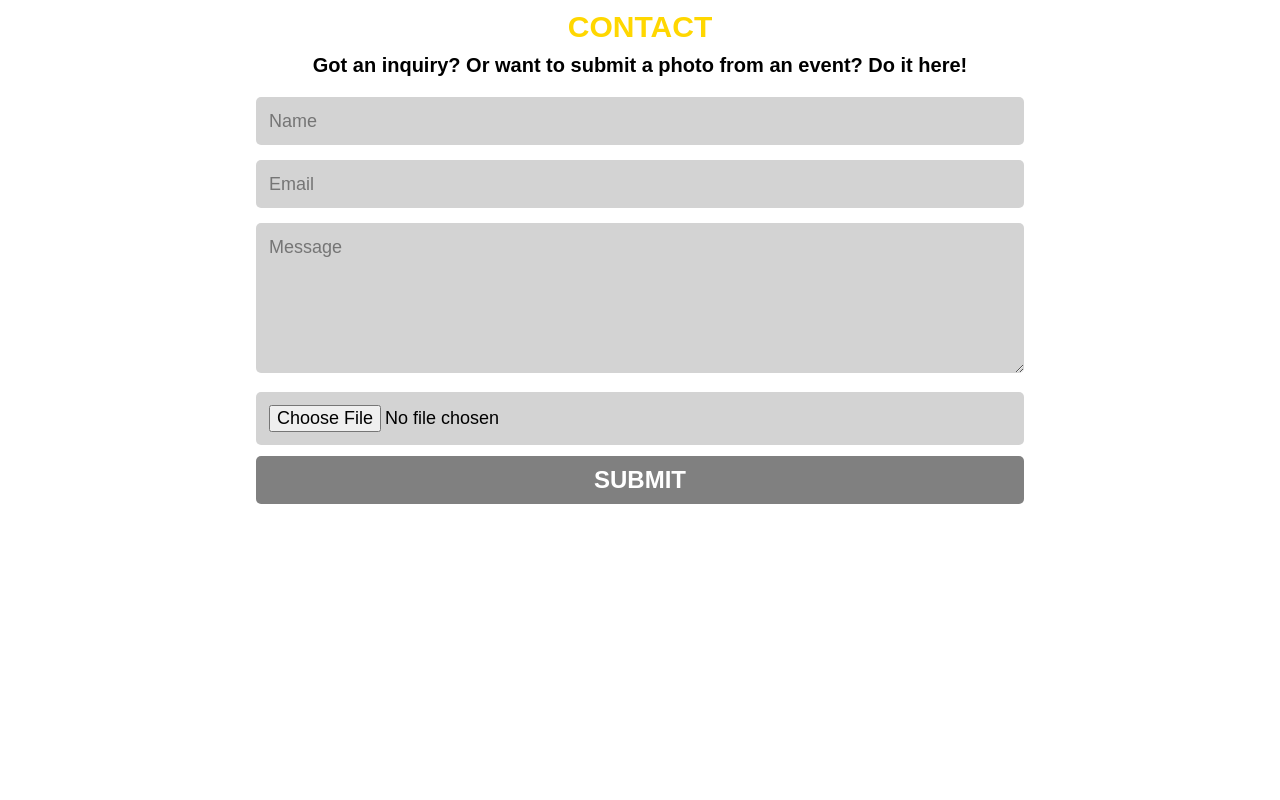
Scenario: ContactForm › displays success message when submitting form with all fields filled
This screenshot has width=1280, height=800.
Note: Fill in all form fields and click the submit button
In the field with placeholder "Name": (640, 121) [256,97,1024,145], type "Greg James"
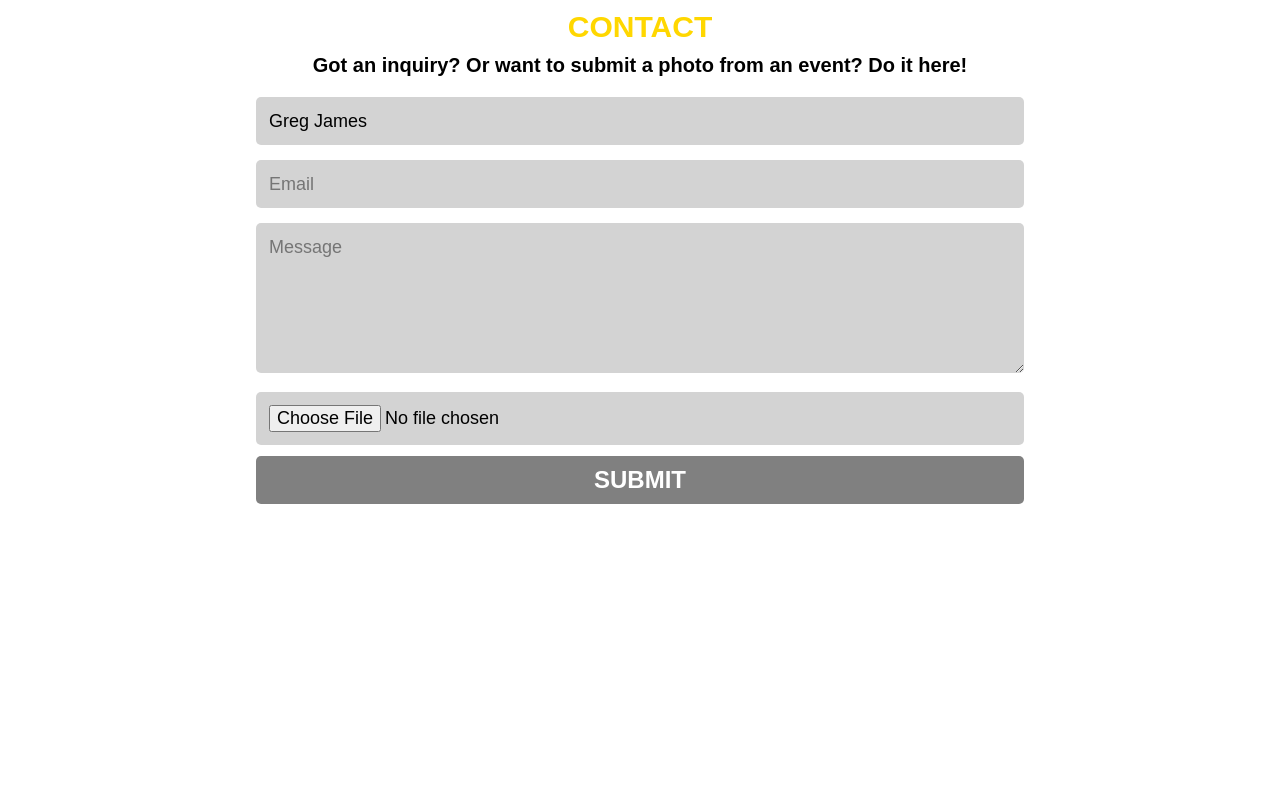
In the field with placeholder "Email": (640, 184) [256,160,1024,208], type "gregjames@hotmail.com"
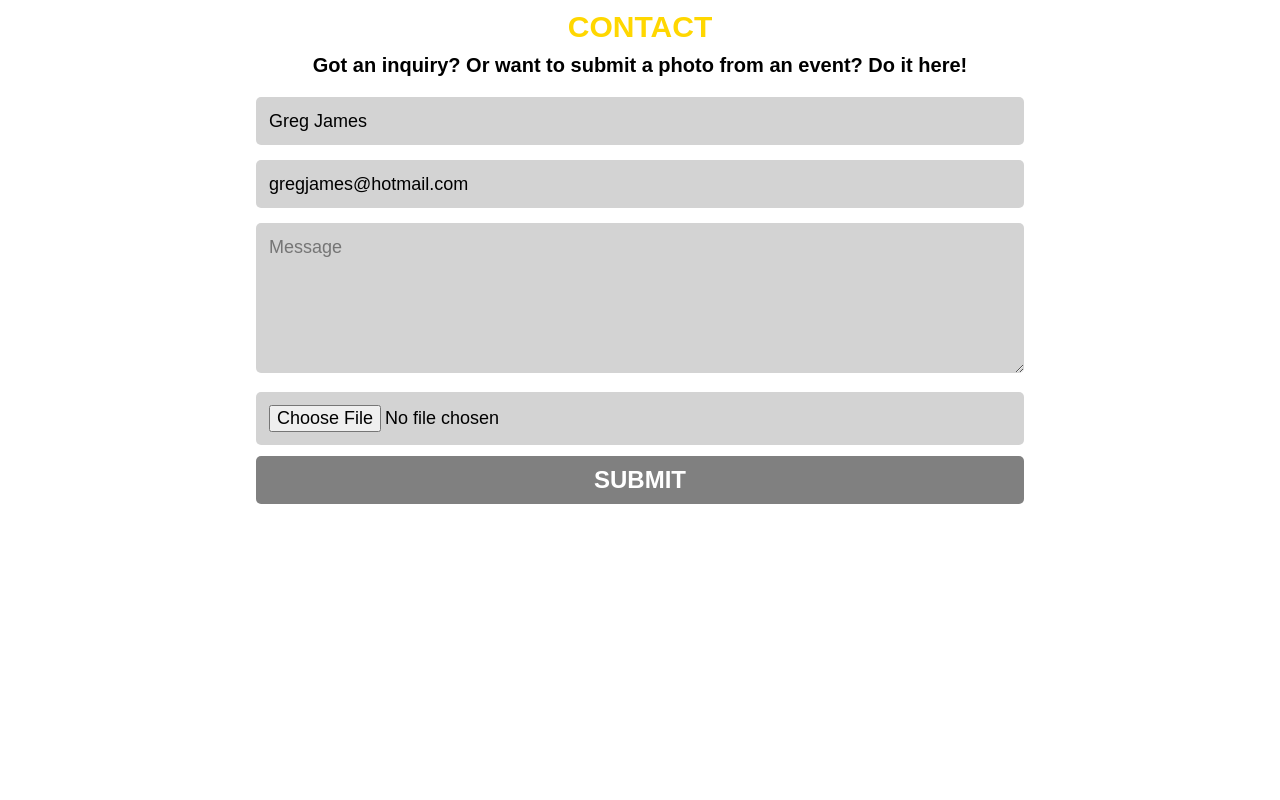
In the text box with placeholder "Message": (640, 298) [256,223,1024,373], type "This is a test message."
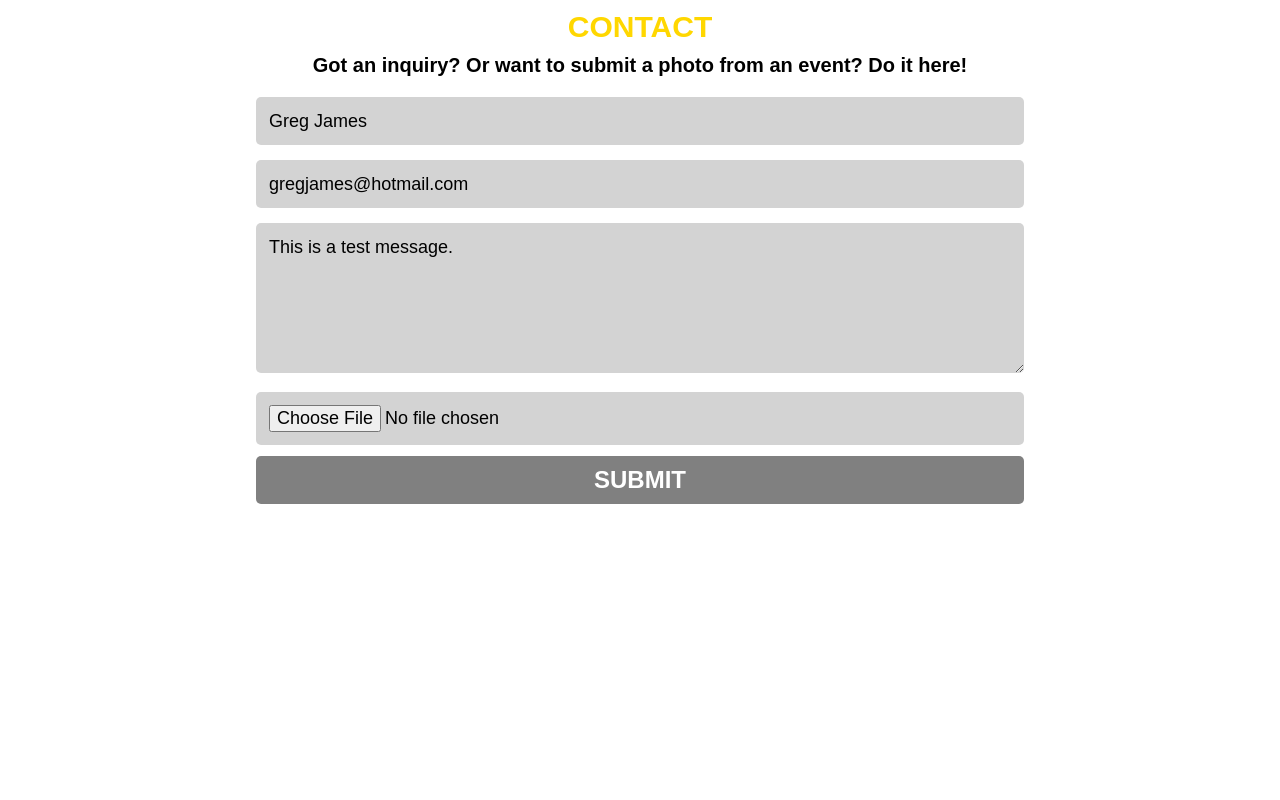
Click the button "SUBMIT": (640, 480) [256,456,1024,504]
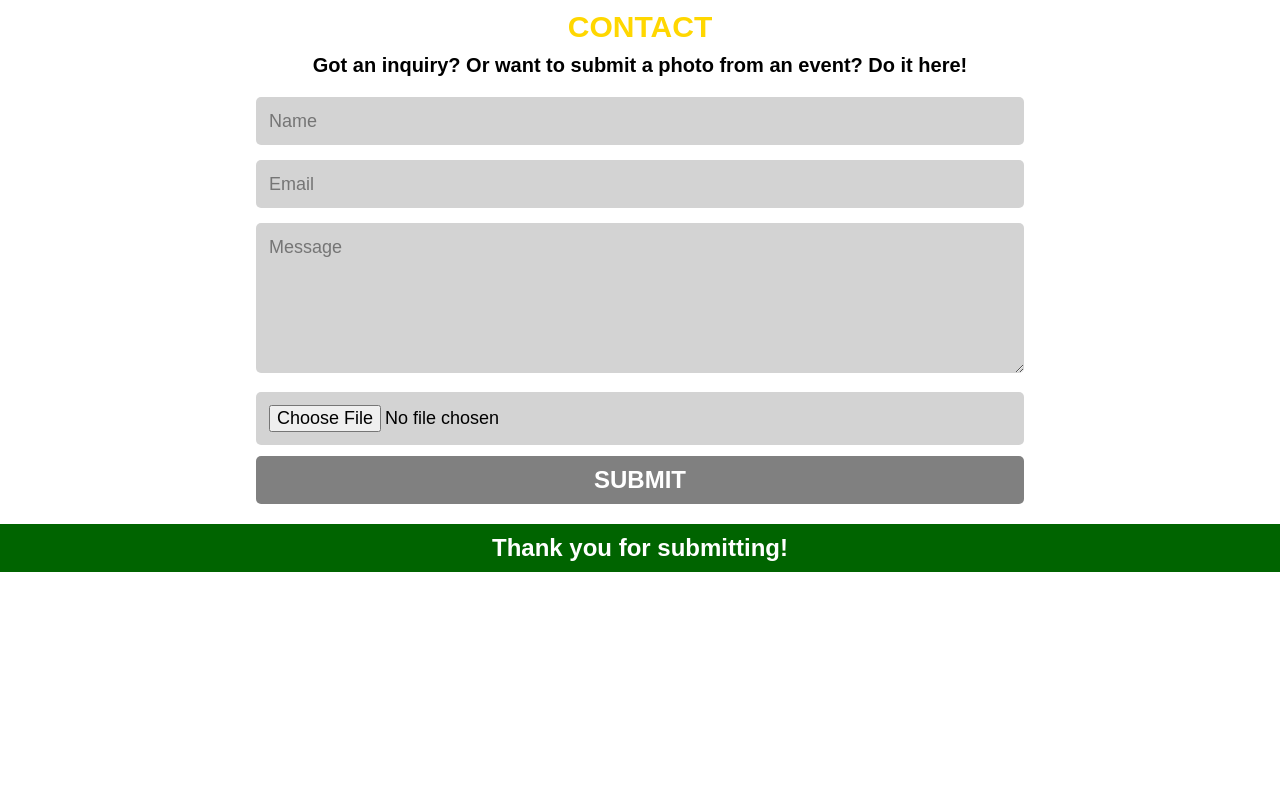
Expected: the text "Thank you for submitting!" is shown, [492,534,788,561]
